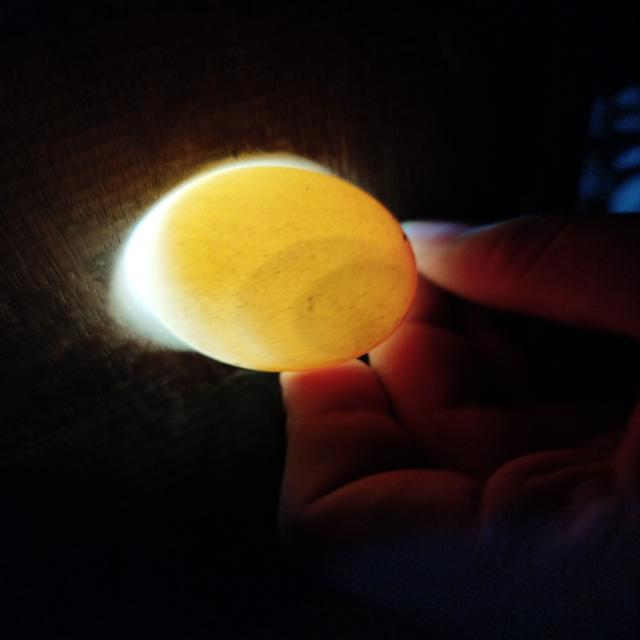Camara de Ar: (239, 239, 401, 364)
Gema Quebrada: (262, 204, 418, 370)
